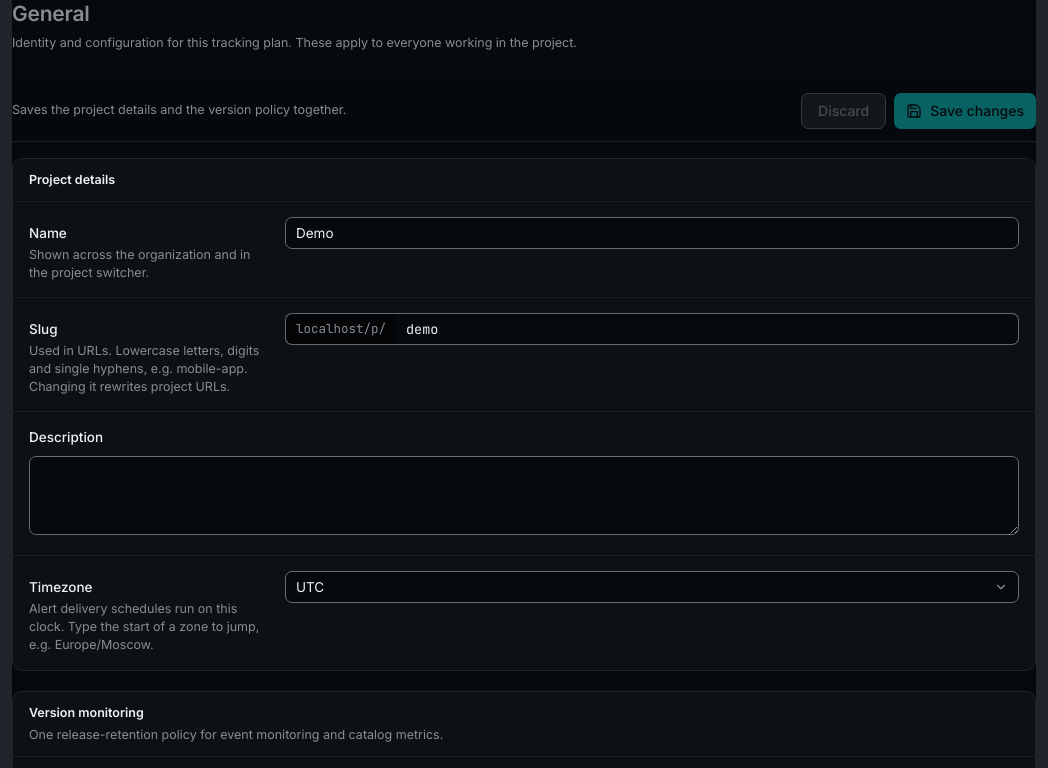
Scenario: ProjectGeneralSection › has one save bar with Discard for both cards
This screenshot has width=1048, height=768.
Expected: the number of buttons "Save changes" is 1, [894,93,1036,129]
Expected: the button "Save changes" is disabled, [894,93,1036,129]
Replace the text in the field labelled "Name" with "Demo 2": [652, 233] box [285,217,1019,249]
(page scrolled)
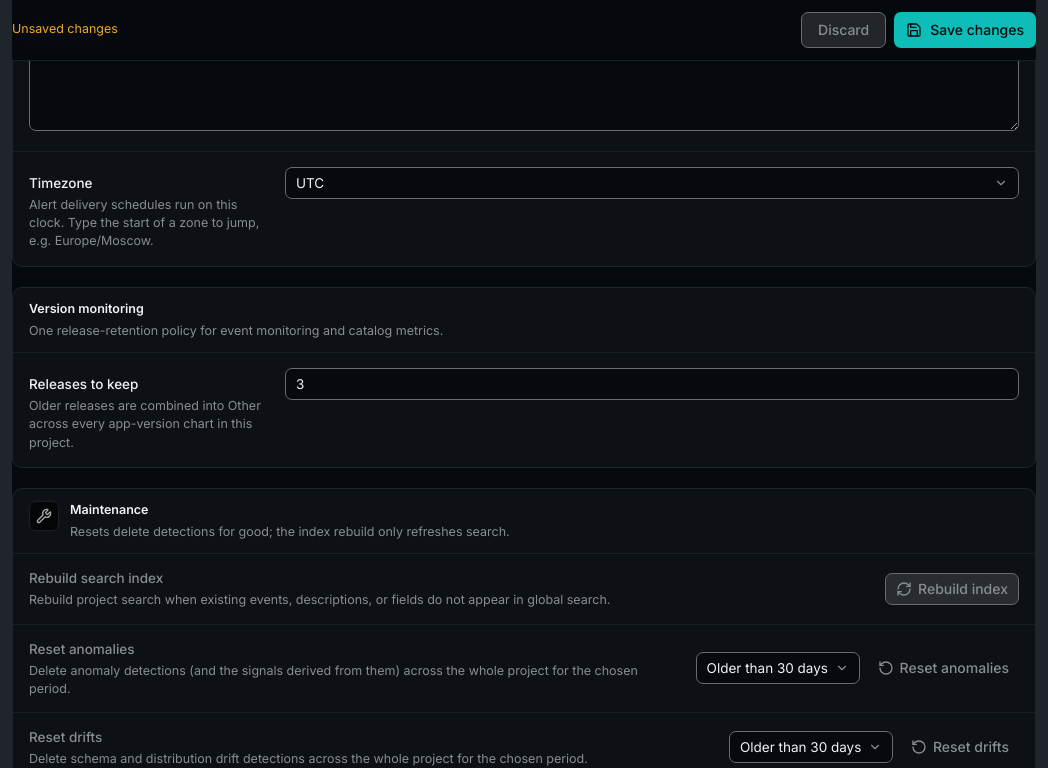
Replace the text in the number field labelled "Releases to keep" with "5": [652, 384] box [285,368,1019,400]
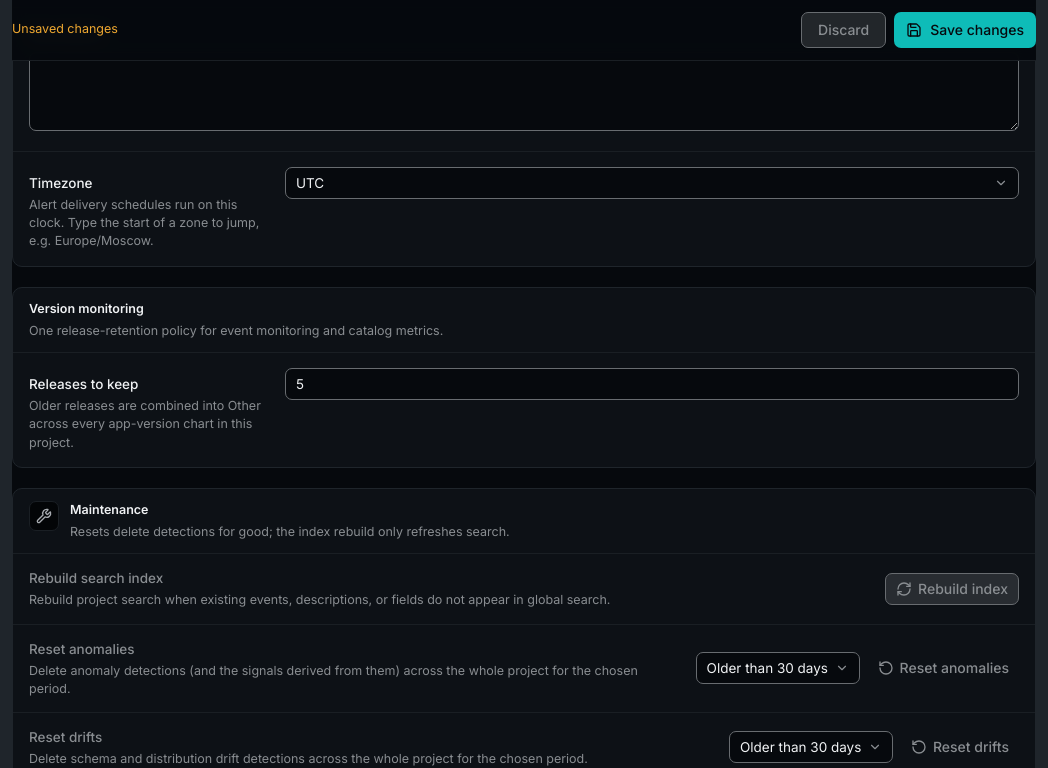
Result: the button "Save changes" is enabled at [894,12,1036,48]
Click the button "Discard": [844, 30] box [801,12,886,48]
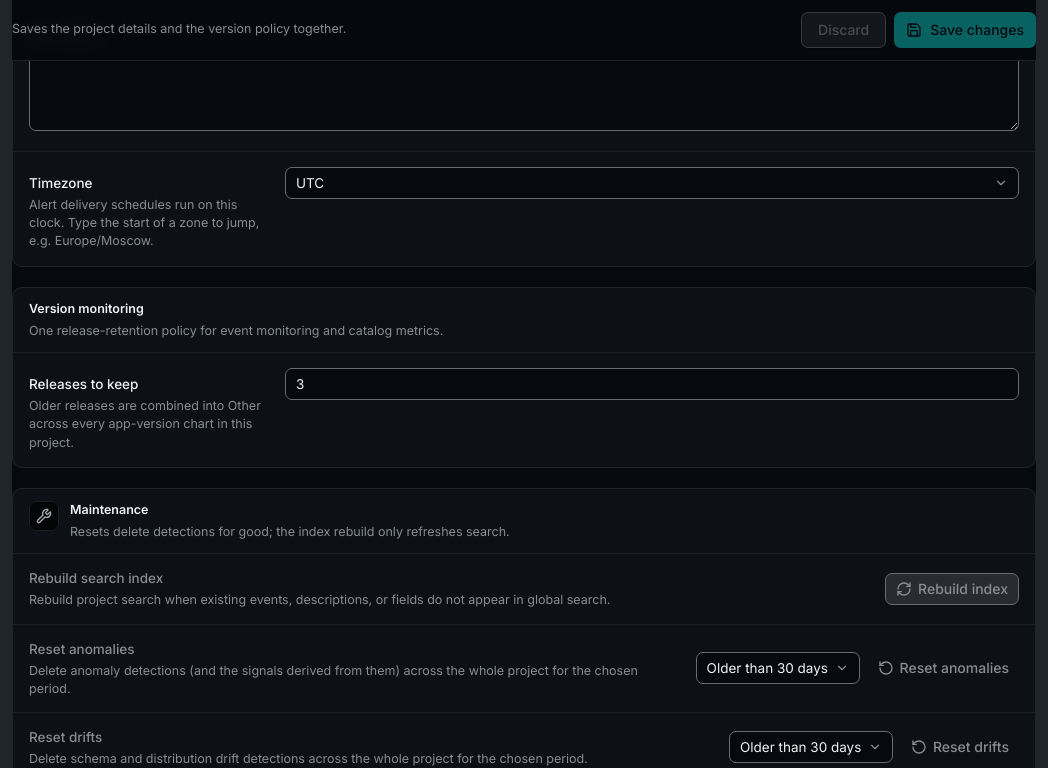
Result: the number field labelled "Releases to keep" holds "3" at [285,368,1019,400]
Result: the button "Save changes" is disabled at [894,12,1036,48]
